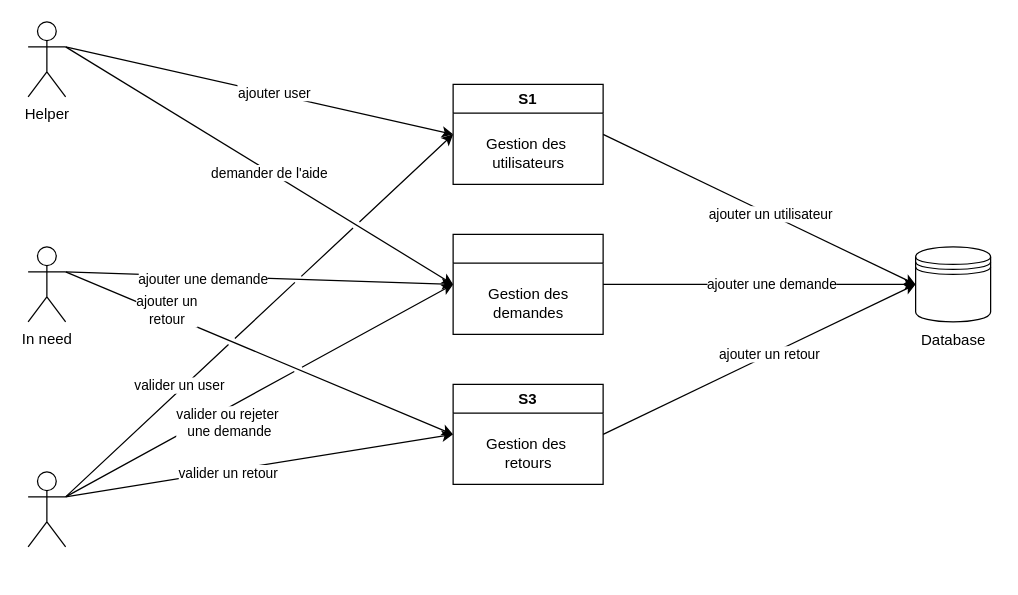
This 1018x595 diagram has some shape labels left out. Here are the shapes that lost their labels. From the top down, the box of each, then its label:
(452, 233, 603, 334): S2
(27, 471, 66, 547): Admin
